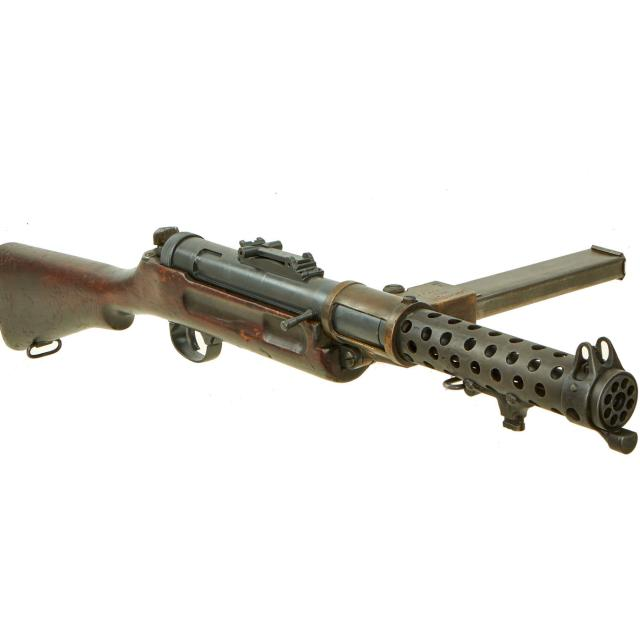Weapon: (0, 227, 638, 453)
